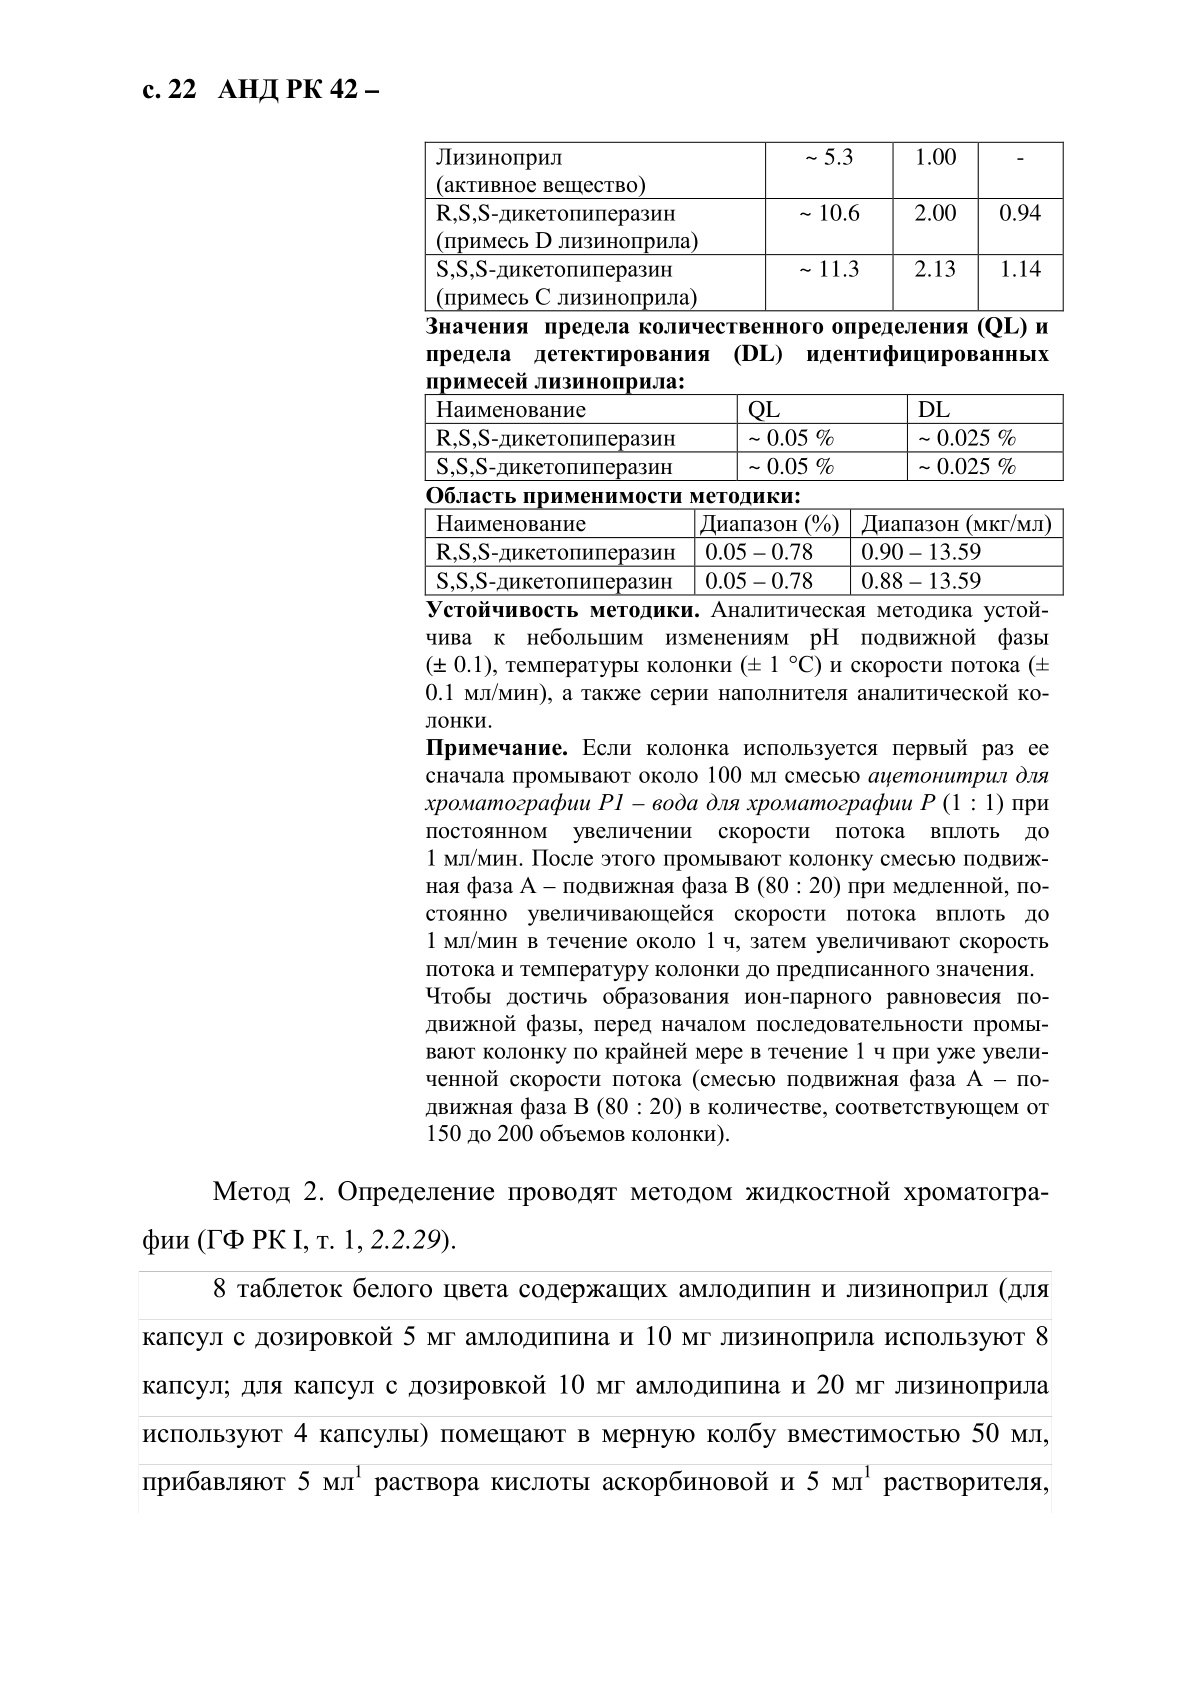full_lined: (424, 140, 1063, 312), (424, 508, 1063, 597), (424, 394, 1063, 481)
